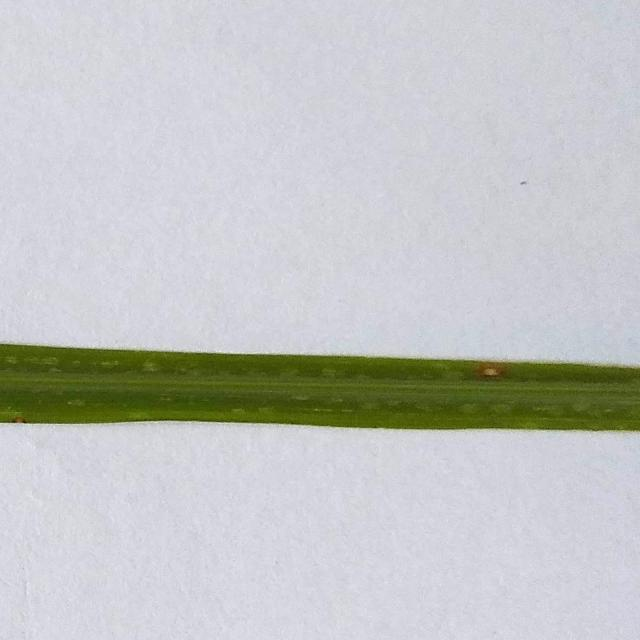Leaf blast: (0, 299, 640, 488)
